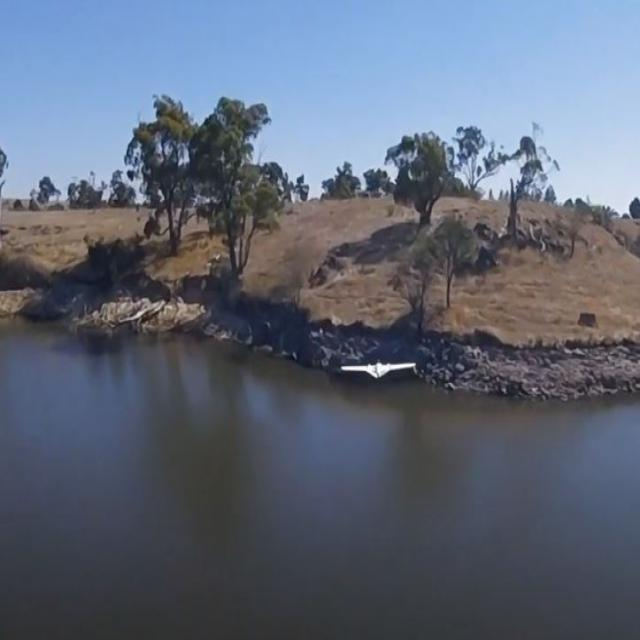iha: (376, 362, 380, 381)
